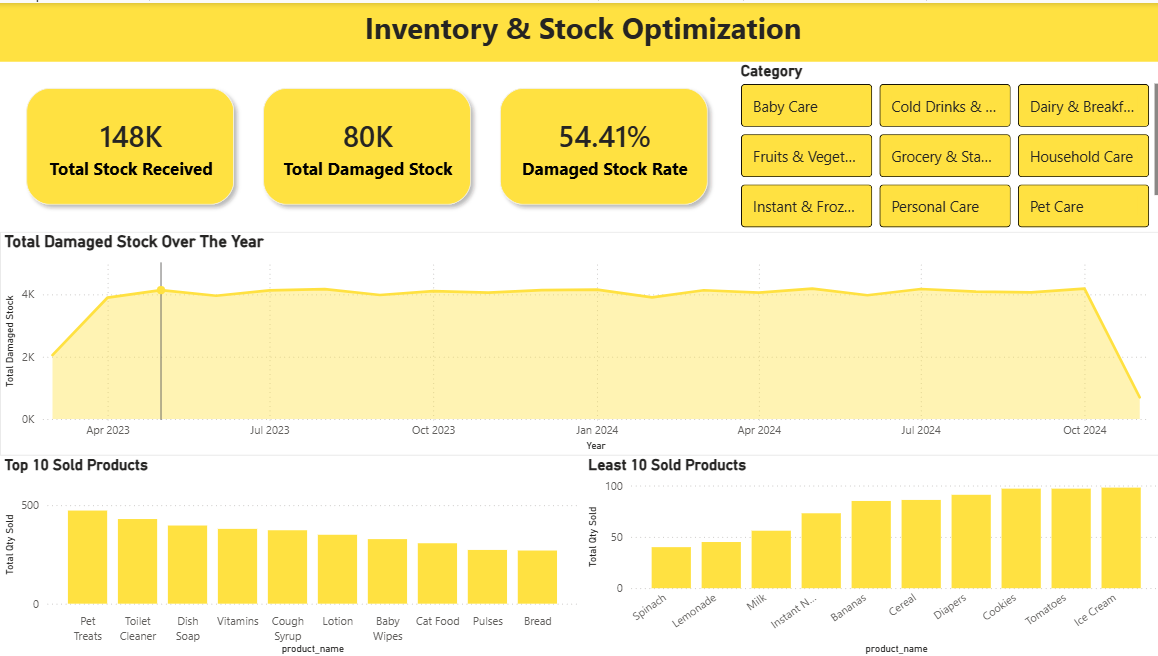

This screenshot's page, from the dashboard's own definition file:
{"tool":"powerbi","page":{"name":"Inventory & Stock Optimization","canvas":[1280,720],"ordinal":1},"visuals":[{"type":"columnChart","title":"Top 10 Sold Products","fields":{"Category":["products.product_name"],"Y":["order_items.Total Qty Sold"]},"box":[0,496.7,639.5,223.7],"z":0},{"type":"columnChart","title":"Least 10 Sold Products","fields":{"Category":["products.product_name"],"Y":["order_items.Total Qty Sold"]},"box":[640.8,496.7,639.5,223.7],"z":1000},{"type":"textbox","box":[0,0,1280.3,72],"z":2000},{"type":"lineChart","title":"Total Damaged Stock Over The Year","fields":{"Category":["inventory.date.Variation.Date Hierarchy.Year","inventory.date.Variation.Date Hierarchy.Month"],"Y":["inventory.Total Damaged Stock"]},"box":[0,251.1,1280.3,245.6],"z":3000},{"type":"advancedSlicerVisual","title":"Category","fields":{"Values":["products.category"]},"box":[808.2,71.4,472,179.8],"z":4000},{"type":"cardVisual","fields":{"Data":["inventory.Total Stock Received","inventory.Total Damaged Stock","inventory.Damaged Stock %"]},"box":[0,71.4,808.2,179.8],"z":5000}]}

Visuals, with their boxes in screenshot pixels (x1, y1, x2, y2), scaled from the page's 1280x720 canvas onto the 1158x656 screenshot:
"Top 10 Sold Products" columnChart: box=[0, 453, 579, 655]
"Least 10 Sold Products" columnChart: box=[580, 453, 1157, 655]
textbox: box=[0, 0, 1157, 66]
"Total Damaged Stock Over The Year" lineChart: box=[0, 229, 1157, 453]
"Category" advancedSlicerVisual: box=[731, 65, 1157, 229]
cardVisual - inventory.Total Stock Received x inventory.Total Damaged Stock: box=[0, 65, 731, 229]
